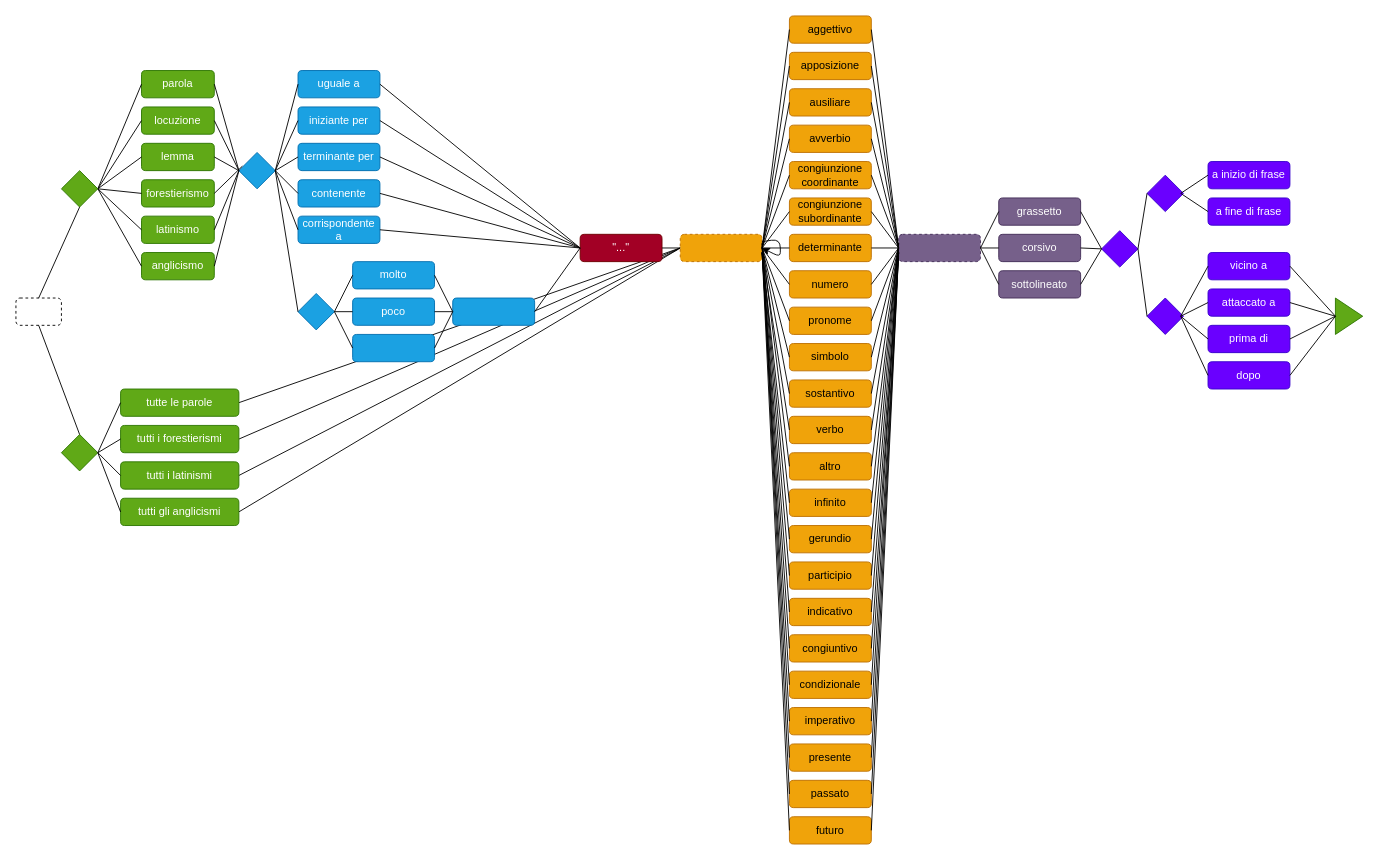
Image size: 1379x860. Some labels were removed from this diagram. The centre of each missing label's shape, as x and y in pixels:
"come" belongs at [720,247].
"in" belongs at [939,247].
"simile a" belongs at [493,311].
"trova" belongs at [38,311].
